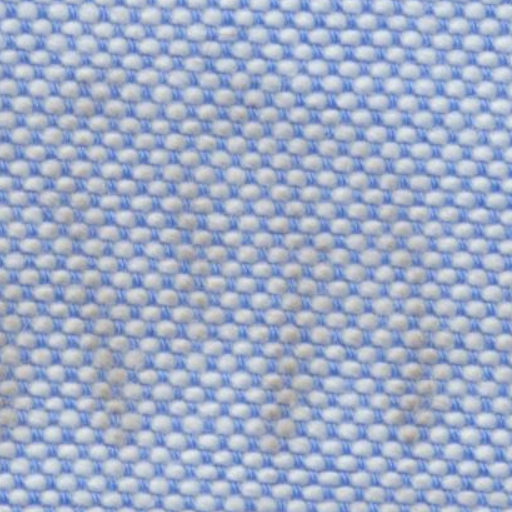WuZi: (4, 66, 464, 466)
